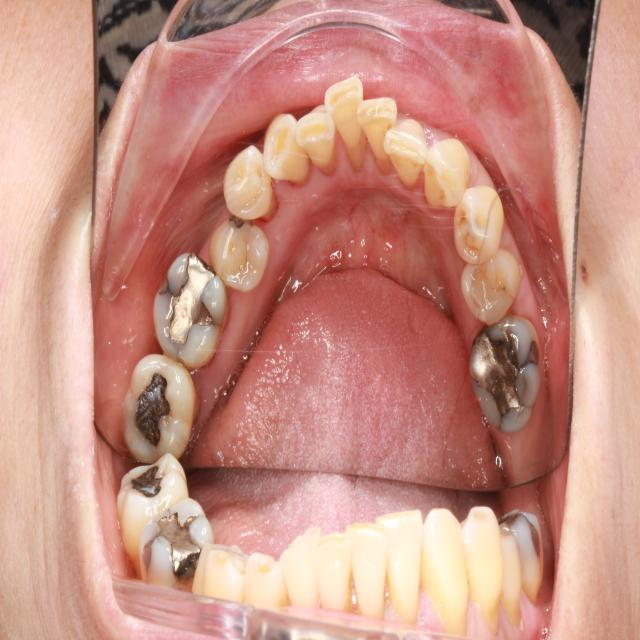tooth: (463, 305, 550, 442), (113, 349, 208, 467), (148, 248, 232, 375), (458, 245, 524, 332), (207, 209, 272, 295), (216, 140, 280, 227), (322, 72, 371, 176), (450, 184, 510, 266), (420, 129, 473, 216), (353, 90, 402, 181), (382, 110, 431, 193), (260, 112, 312, 190), (292, 103, 341, 179)
